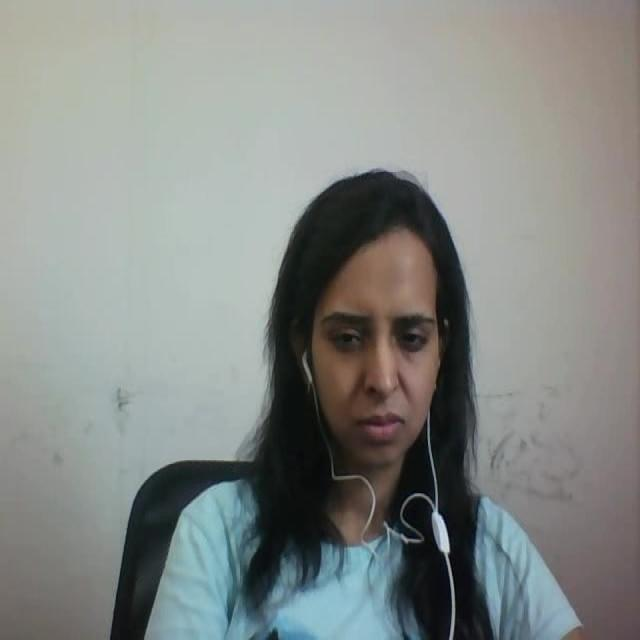Engaged: (274, 159, 474, 506)
